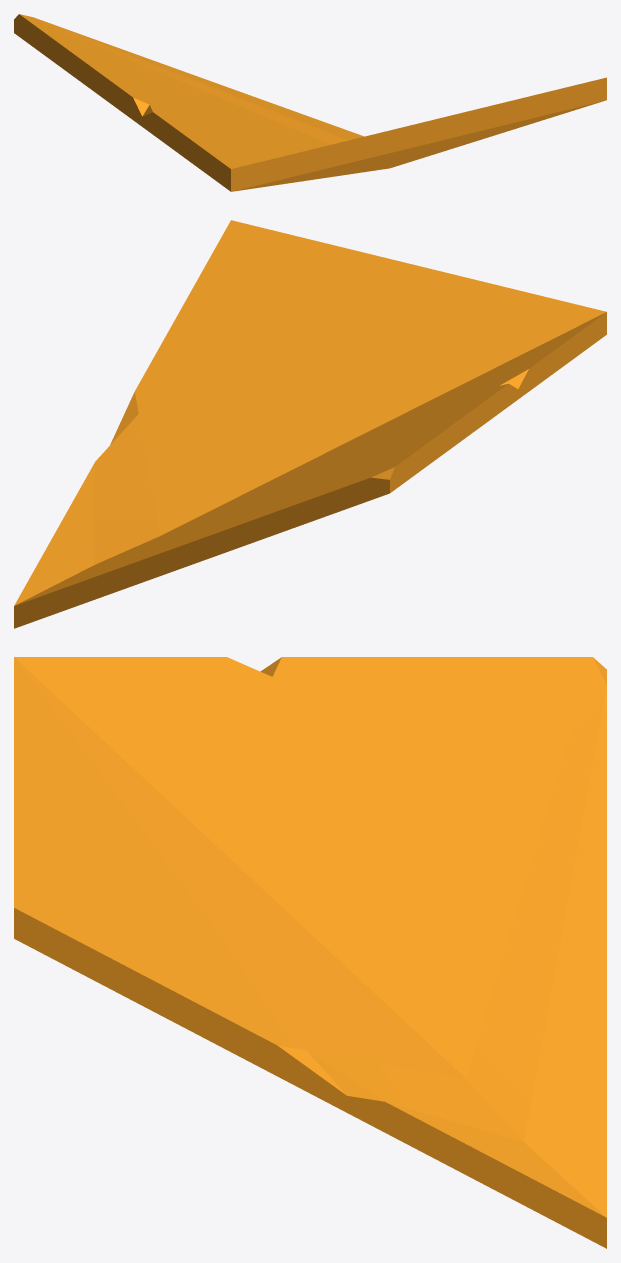
File: SM_Buildings_RoofAngledCornerInner_2x2_01P.fbx
3 views of the same model, one above another, from view 1: azimuth 30°, elevation 25°; view 2: azimuth 150°, elevation 25°; view 3: azimuth 270°, elevation 25° (orthographic). The views are drawn at different scales.
Parts seen in each view (by area): view 1: SM_Buildings_RoofAngledCornerInner_2x2_01P; view 2: SM_Buildings_RoofAngledCornerInner_2x2_01P; view 3: SM_Buildings_RoofAngledCornerInner_2x2_01P.
Part boxes in pixels (x1,y1,x2,y2): SM_Buildings_RoofAngledCornerInner_2x2_01P: (14,14,606,191); SM_Buildings_RoofAngledCornerInner_2x2_01P: (14,220,606,628); SM_Buildings_RoofAngledCornerInner_2x2_01P: (14,657,606,1248).
Size of the model in its own units: 200 by 127 by 200.
